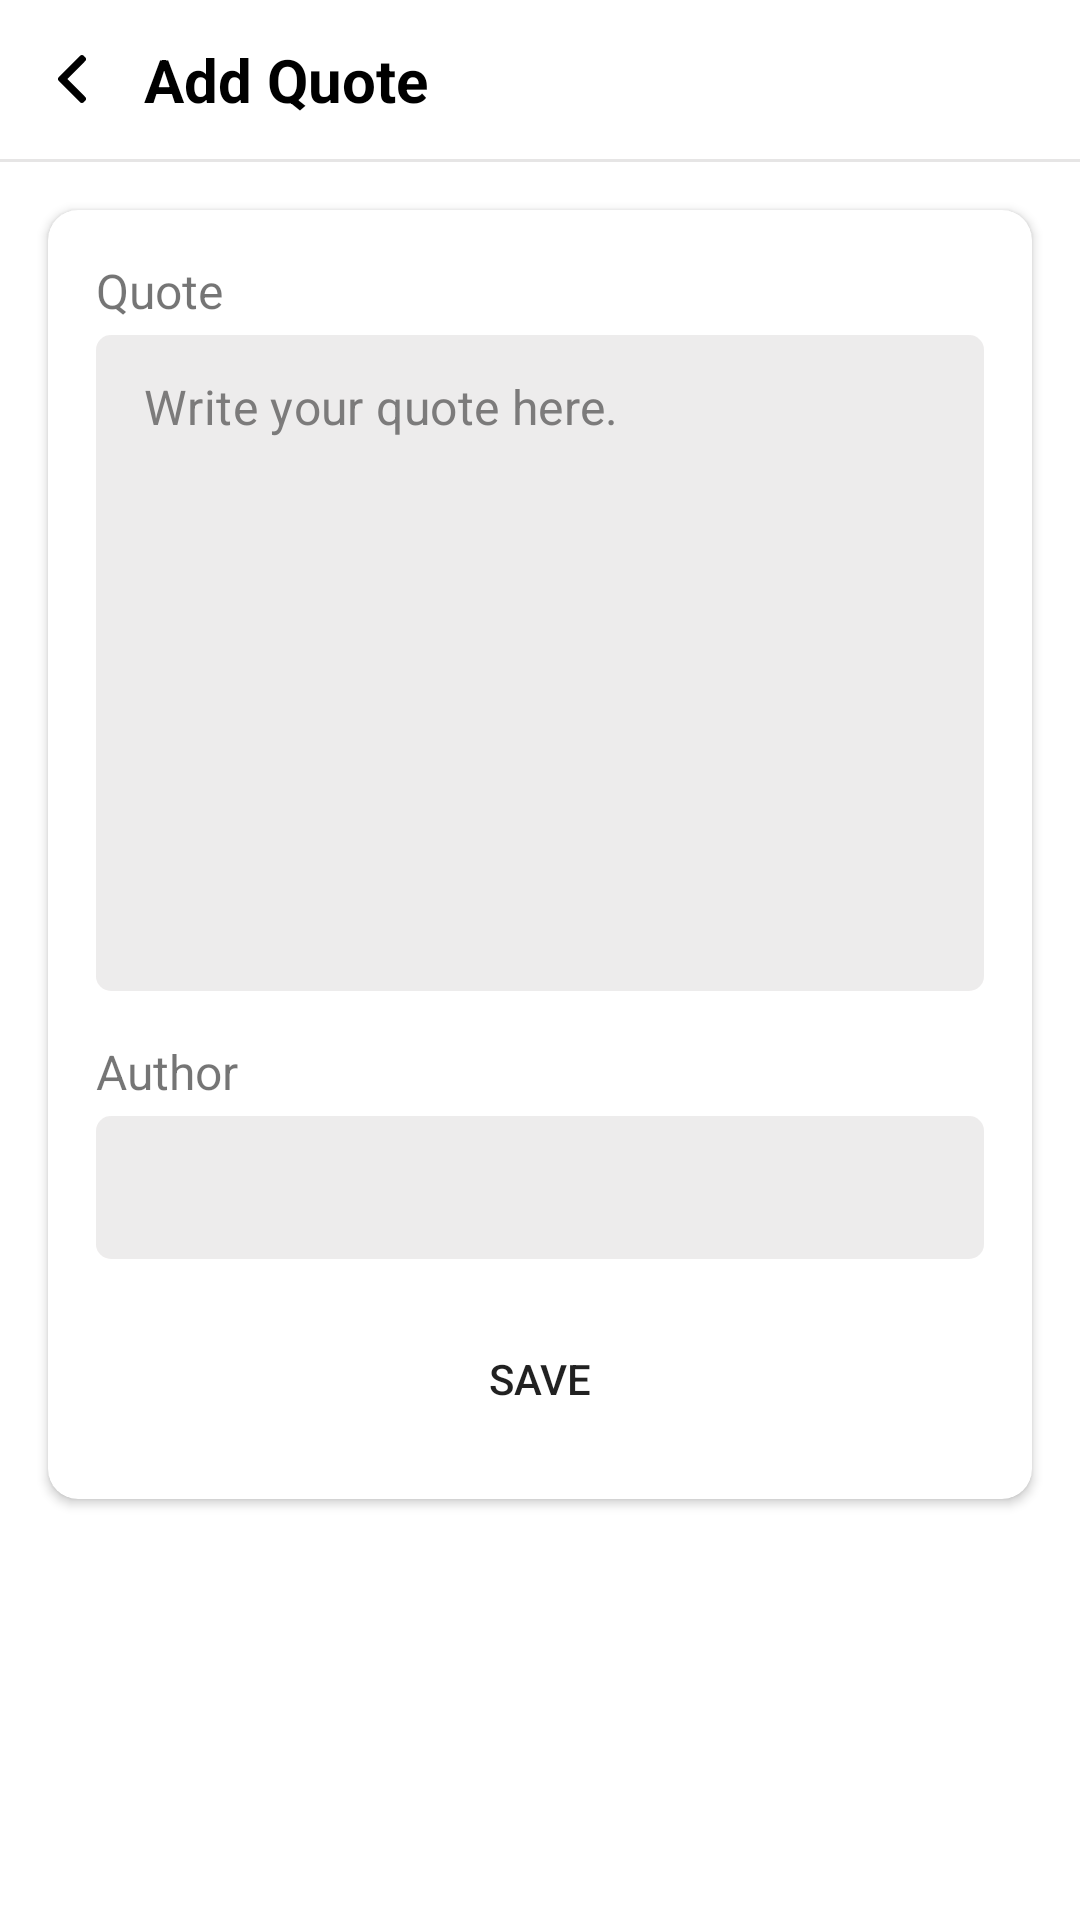

Named icons in this screenshot (1080px×1920px) and their bounding boxes, (x1=x1, y1=y1, x2=x2, y2=y2):
back: (x1=58, y1=55, x2=86, y2=103)
